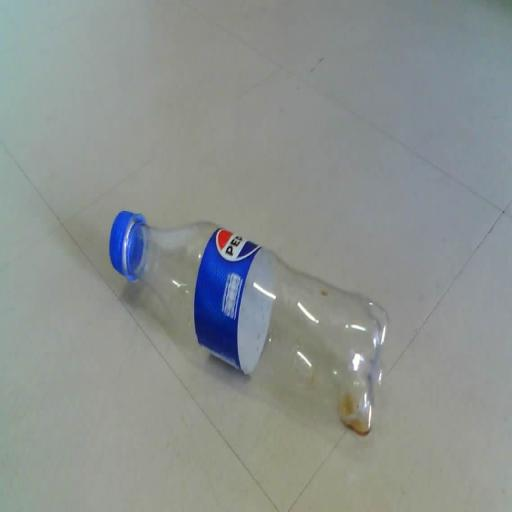bottle: (90, 194, 405, 462)
